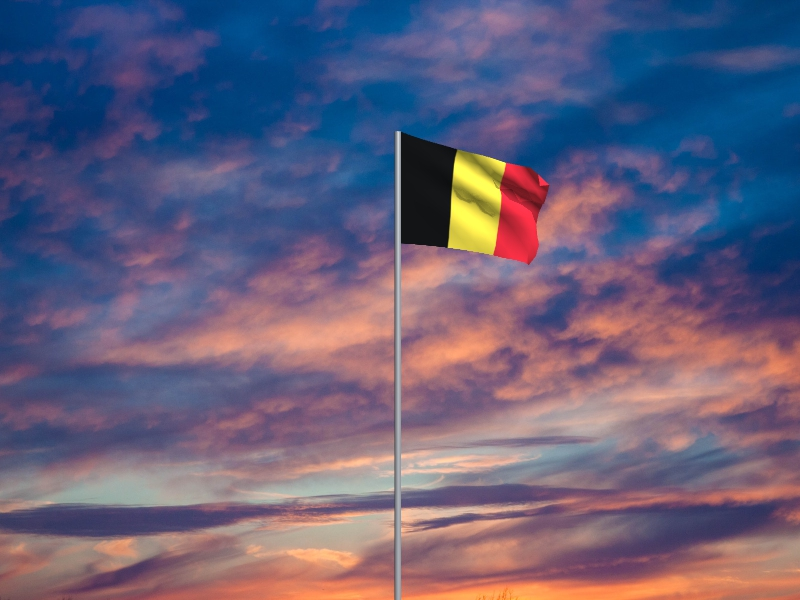be: (402, 132, 551, 267)
